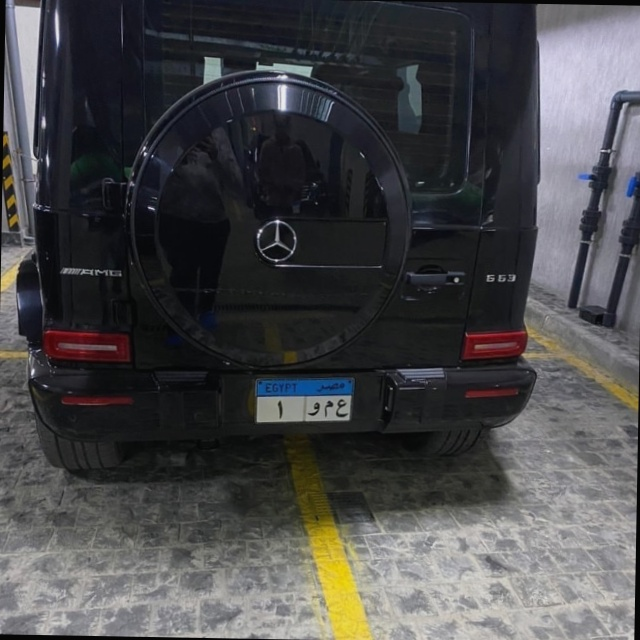License Plate: (251, 375, 359, 427)
